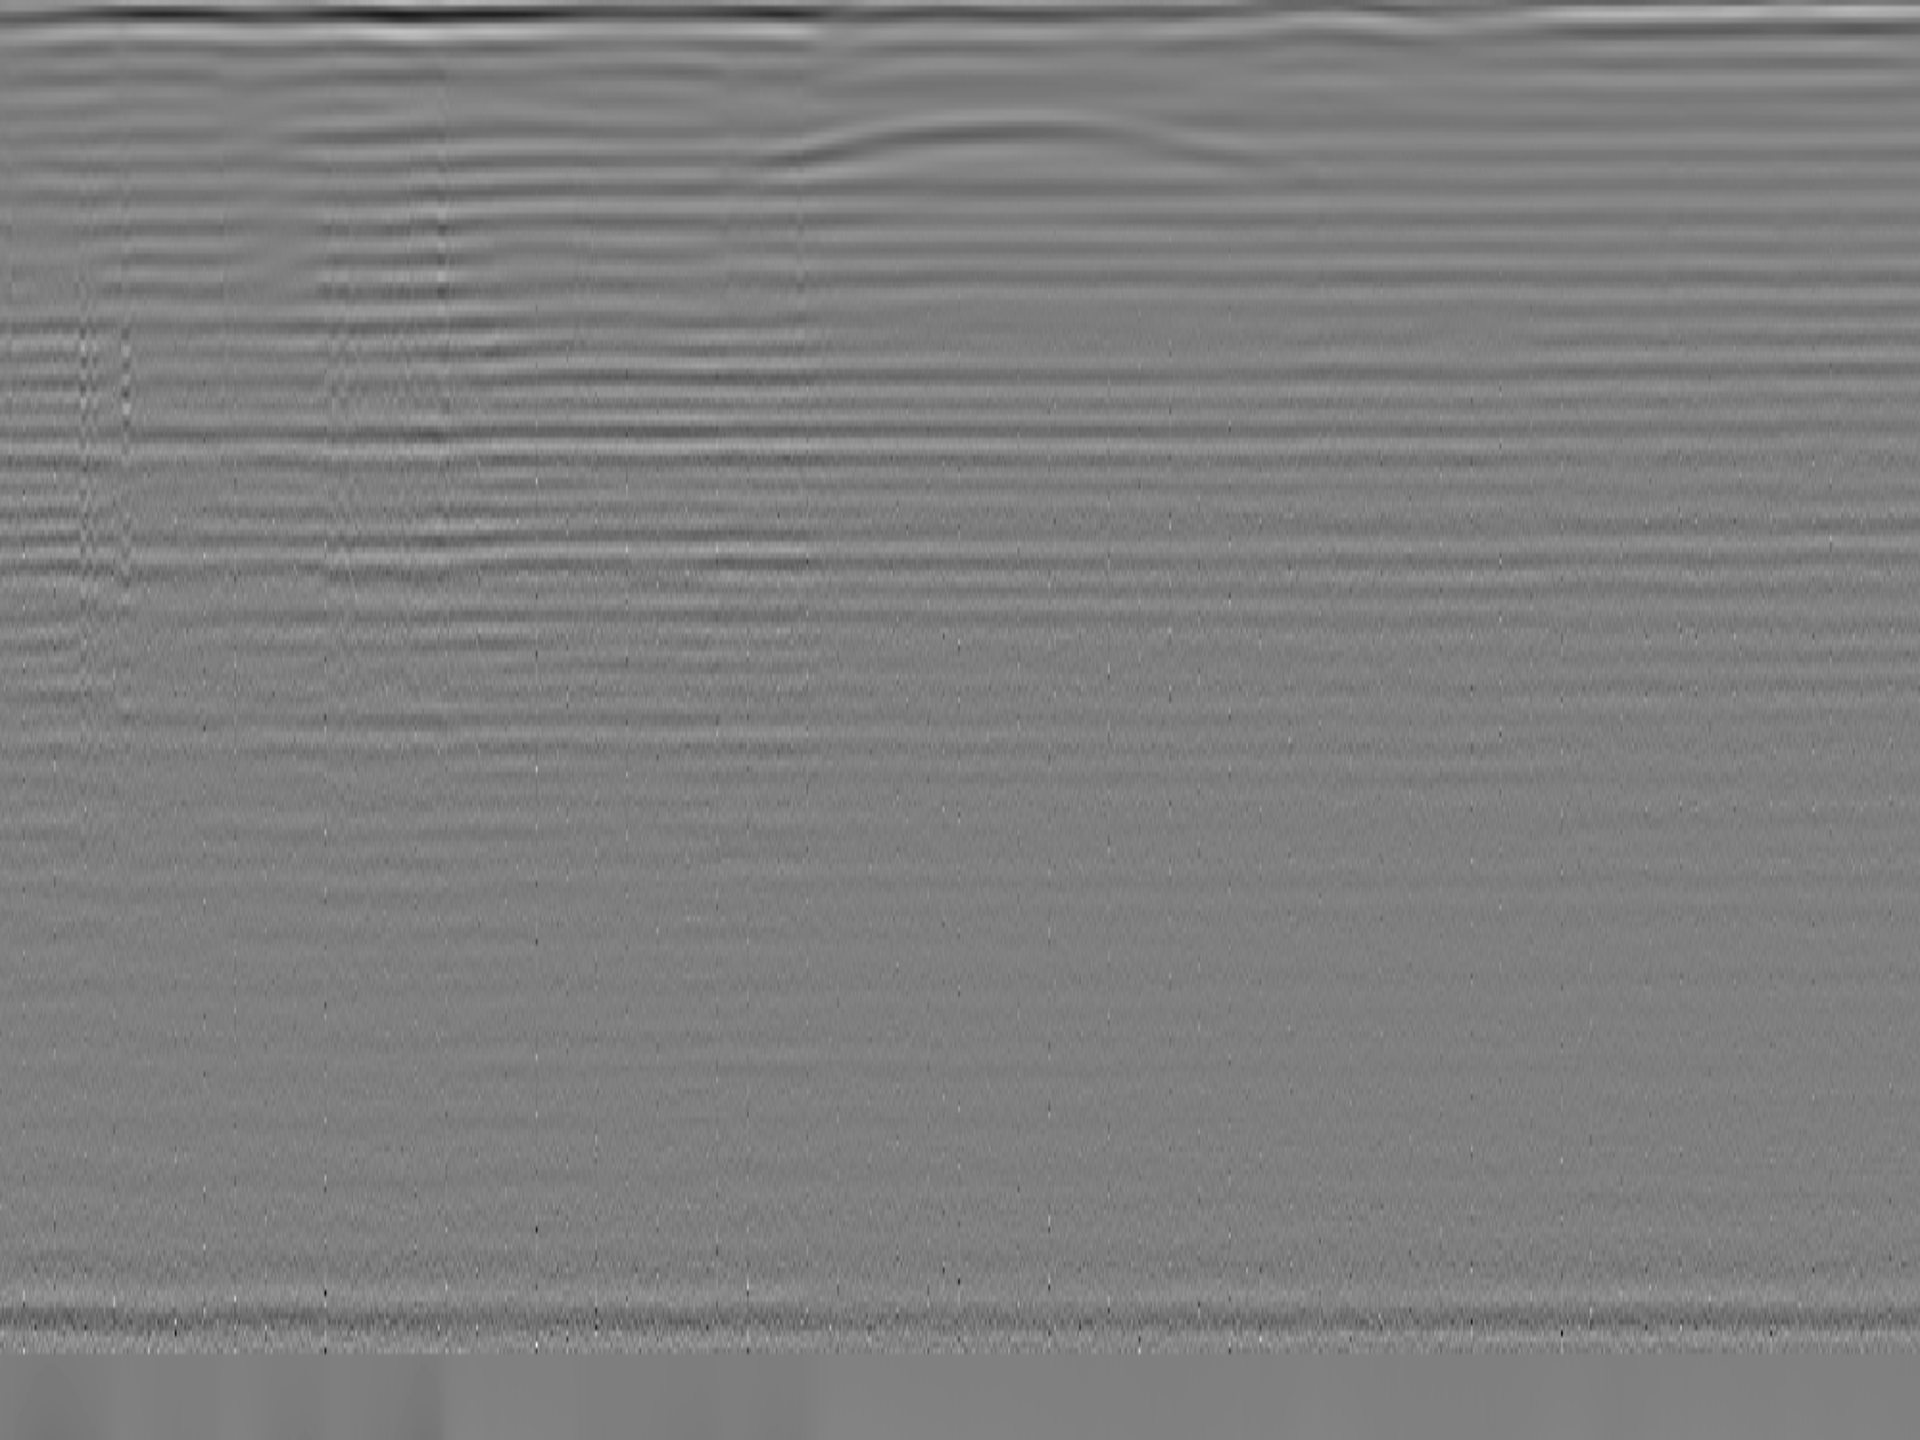Tunnel: (733, 106, 1309, 169)
